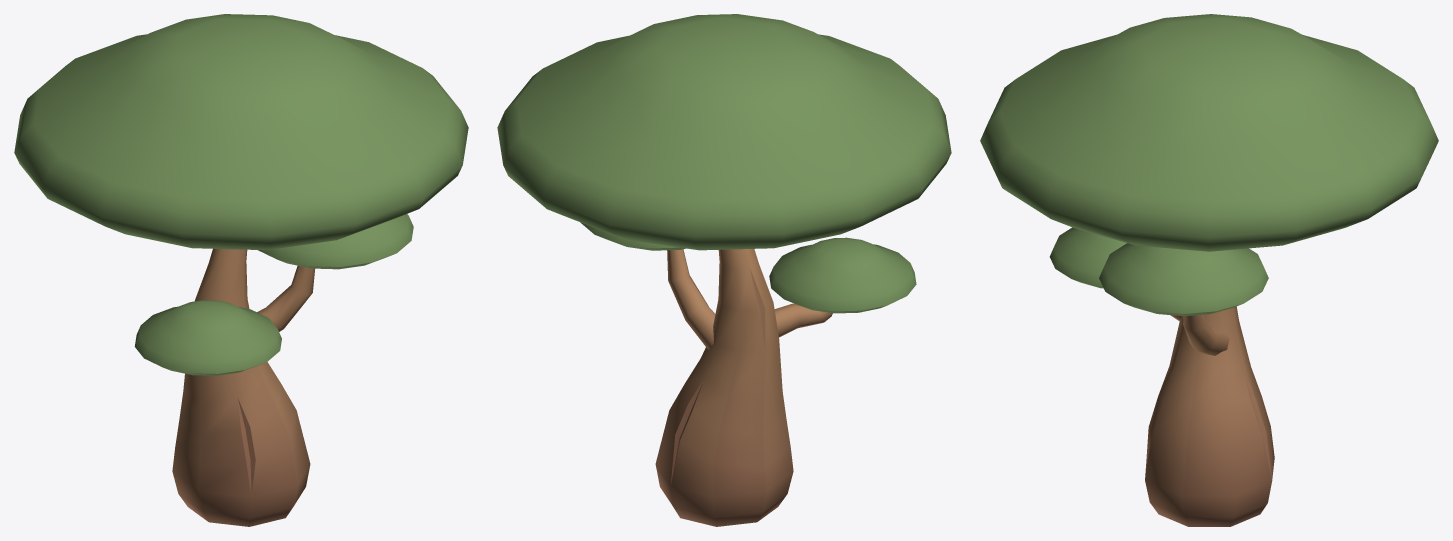
The model's file is meadow-tree-branching.glb.
3 views of the same model, side by side, from view 1: azimuth 30°, elevation 25°; view 2: azimuth 150°, elevation 25°; view 3: azimuth 270°, elevation 25° (orthographic).
Visible parts, largest first — view 1: Meadow branching; view 2: Meadow branching; view 3: Meadow branching.
Part boxes in pixels (x1,y1,x2,y2): Meadow branching: (14, 14, 468, 526); Meadow branching: (497, 14, 951, 526); Meadow branching: (980, 14, 1438, 526).
Bounding box in the file's own units: 3.09 × 3.51 × 3.09.
